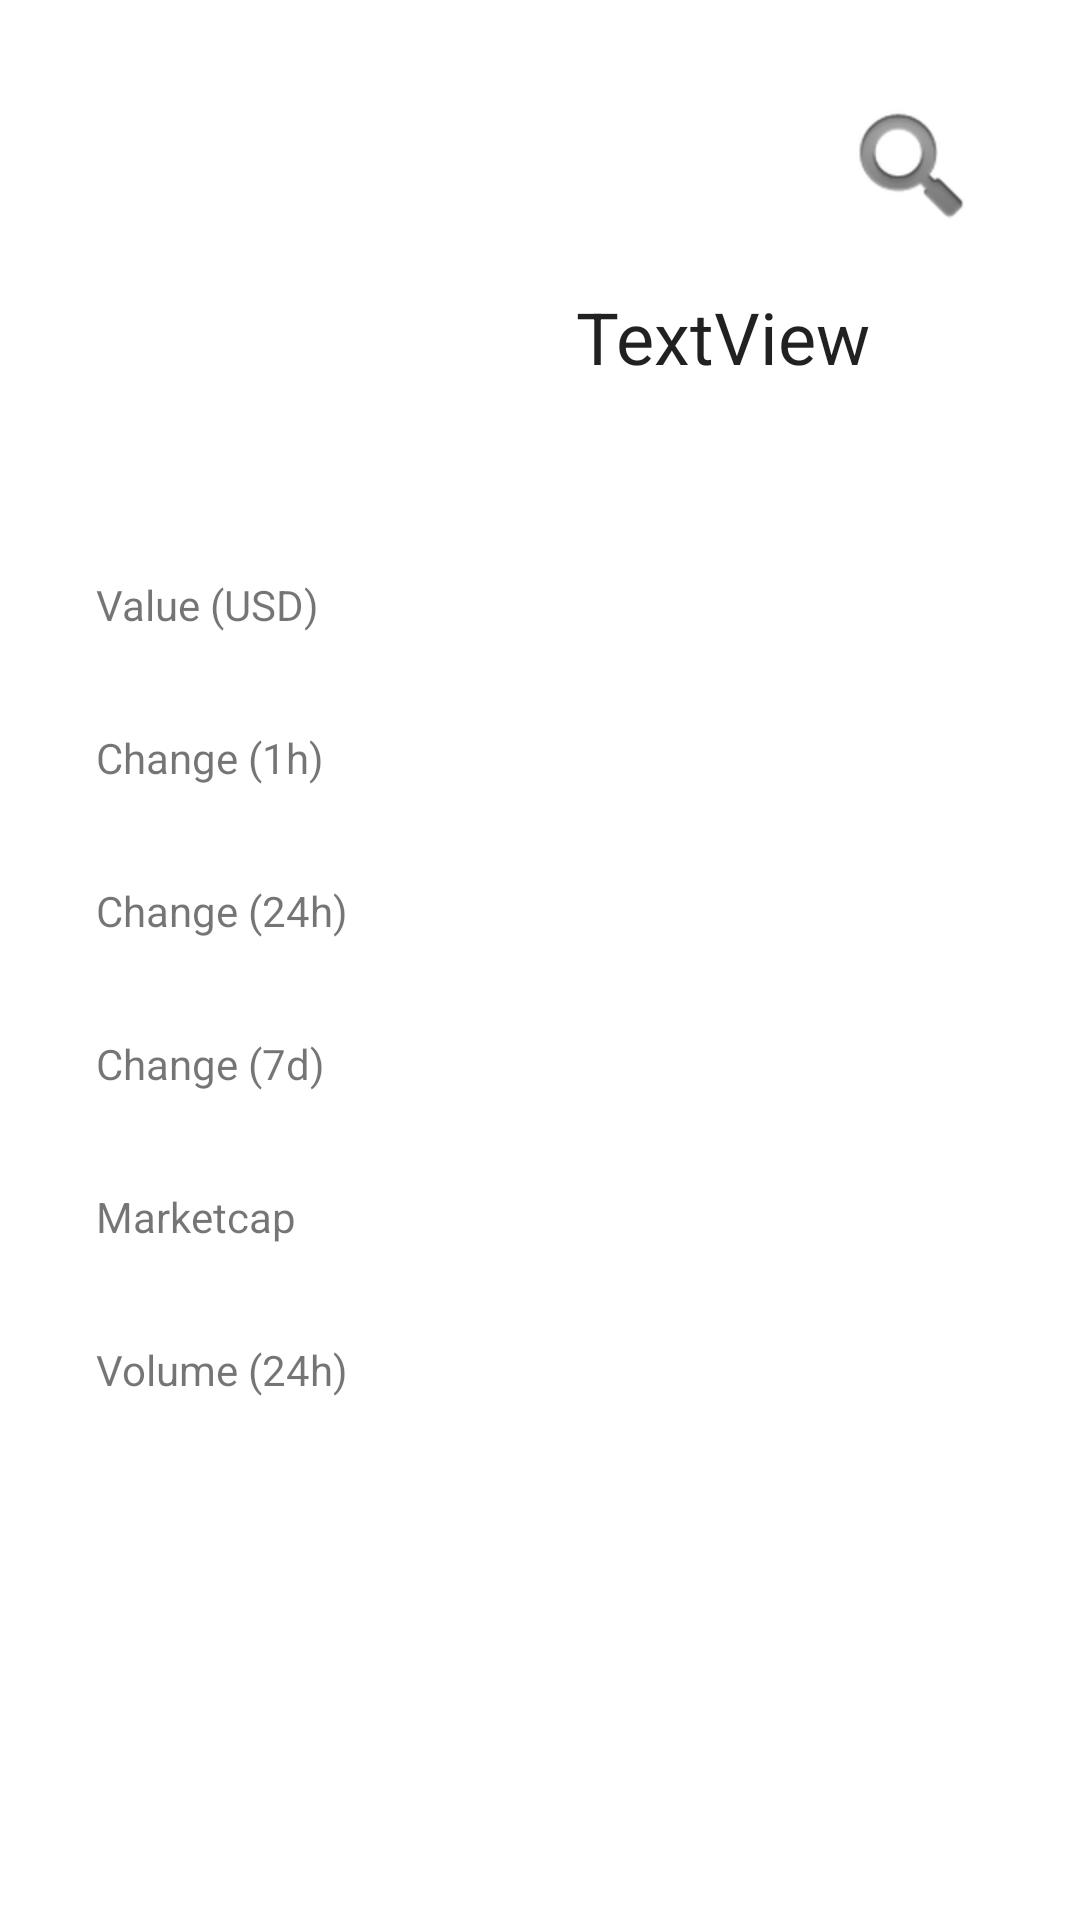

Where to tap for icons on this 1080px x 1920px app screen, as (x,y):
search category: (911,165)
